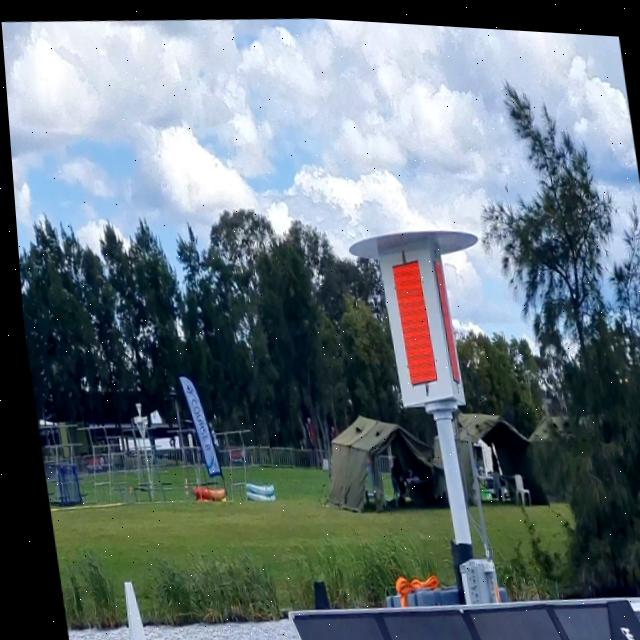led: (379, 244, 442, 385)
